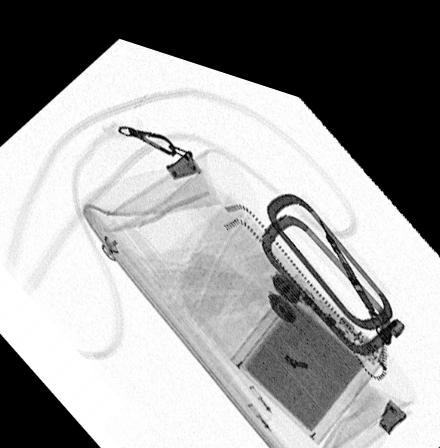Powerbank: (229, 257, 389, 427)
